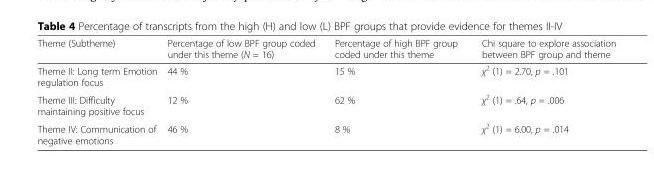table: (36, 36, 615, 145)
table column: (161, 36, 324, 145), (468, 36, 615, 145), (324, 36, 468, 145), (36, 36, 161, 145)
table column header: (36, 36, 615, 61)
table row: (36, 61, 615, 90), (36, 90, 615, 119), (36, 119, 615, 145), (36, 36, 615, 61)
